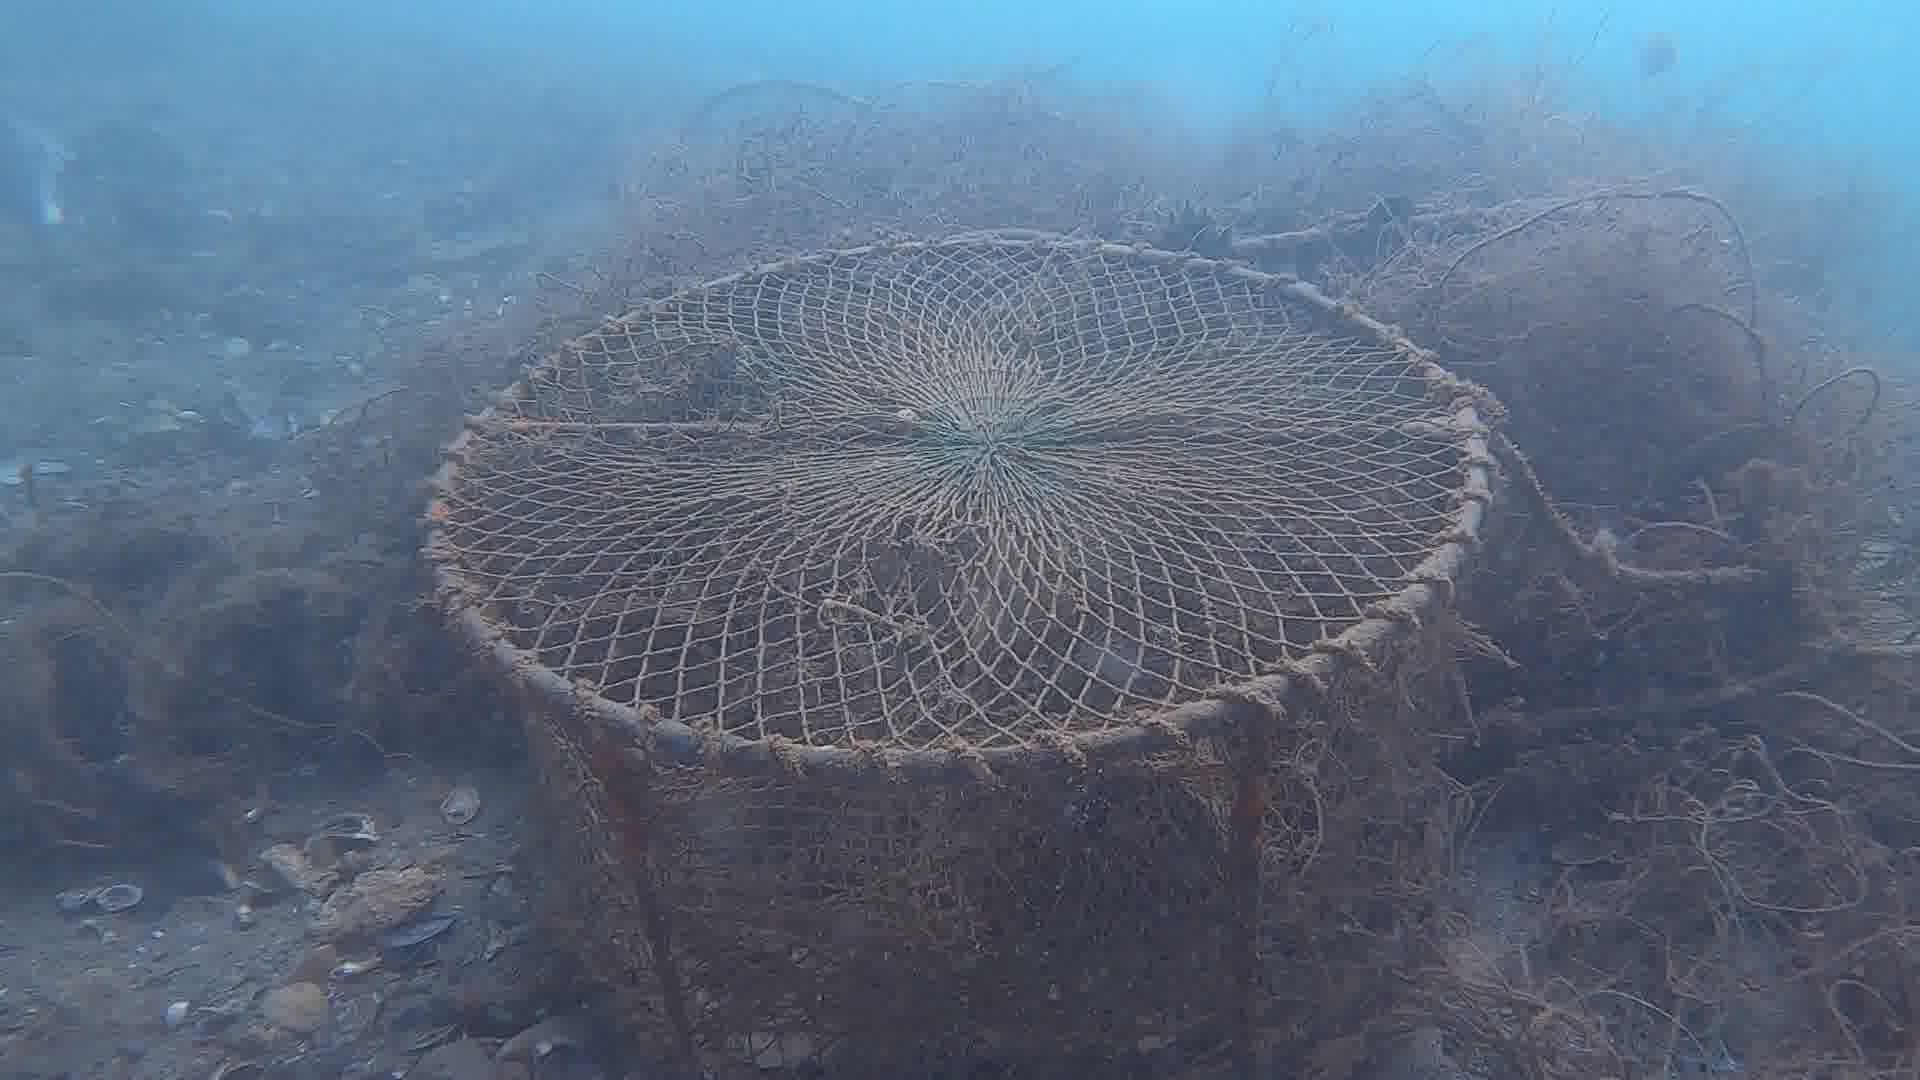circular fish trap: (415, 229, 1493, 1080)
